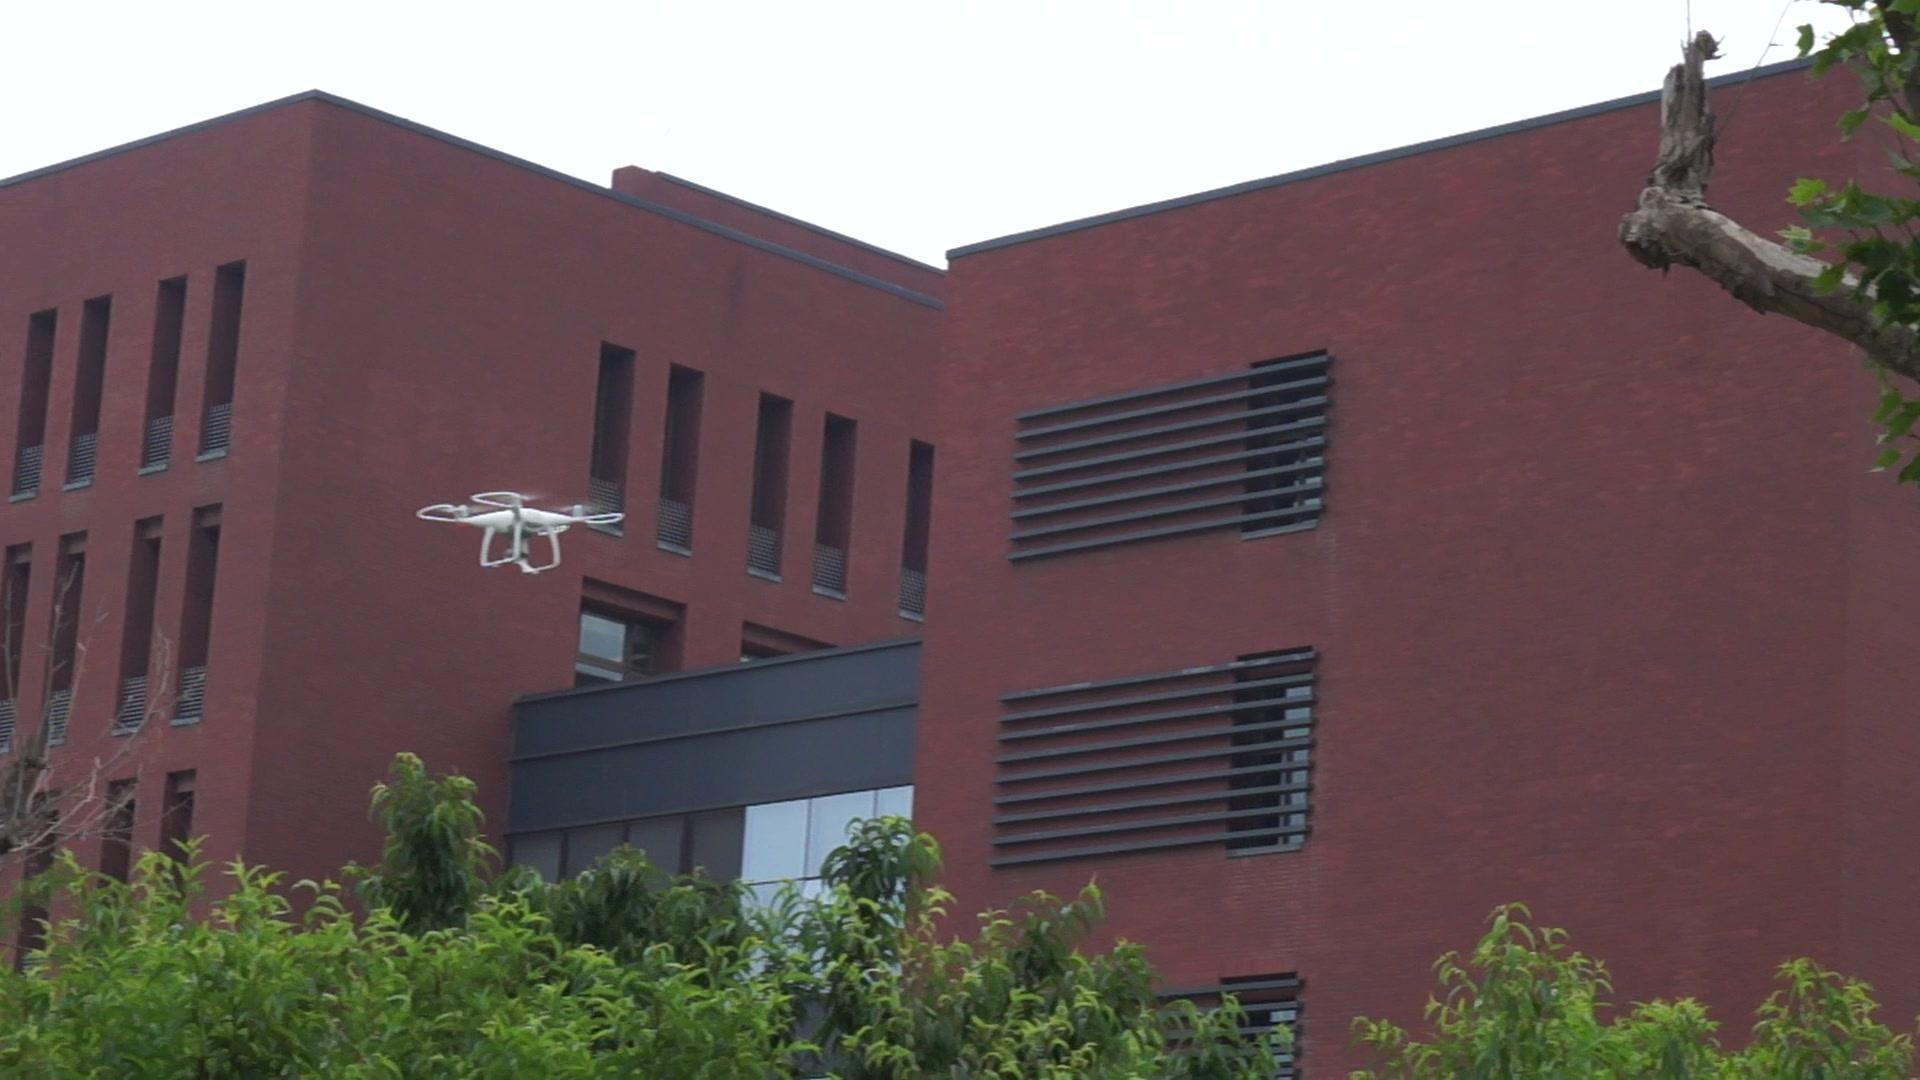UAV: (415, 491, 628, 578)
